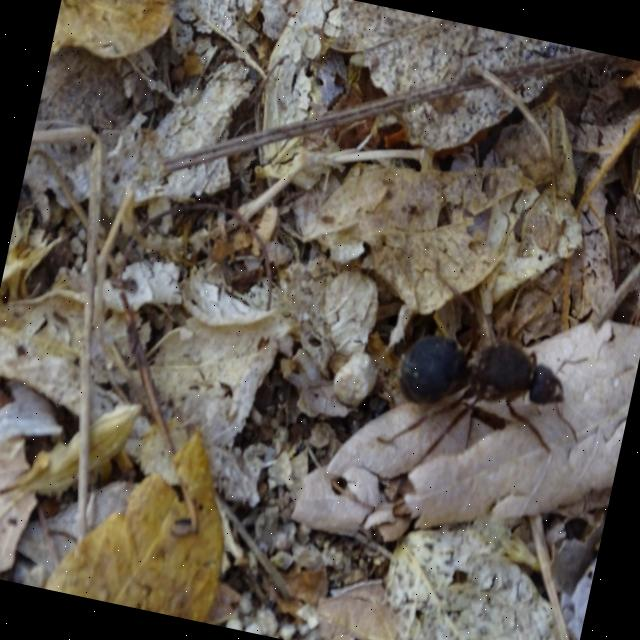Alive-Female-Dealate: (372, 244, 611, 500)
